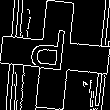P_S: (34, 28, 76, 82)
